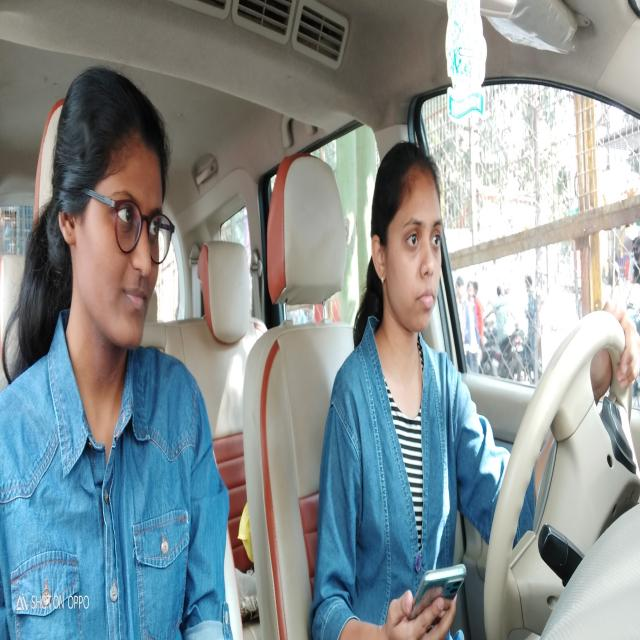mobile: (412, 566, 470, 640)
person: (52, 64, 180, 356), (366, 143, 449, 335)
